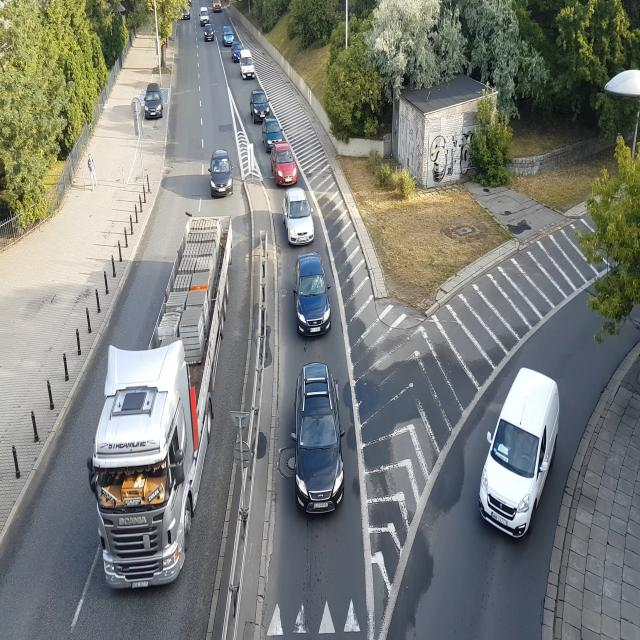car: (479, 370, 561, 540), (290, 368, 350, 520), (293, 253, 336, 343), (283, 189, 315, 247), (270, 142, 300, 186), (211, 149, 234, 198), (263, 115, 287, 150), (142, 88, 166, 120), (250, 89, 272, 122), (239, 60, 256, 80), (229, 42, 244, 61), (198, 5, 210, 25), (180, 0, 192, 20), (223, 26, 235, 45), (203, 27, 214, 40), (213, 2, 225, 12)
truck: (89, 208, 238, 586)
